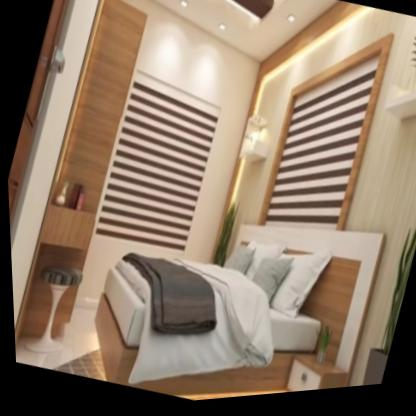Bed: (68, 168, 344, 412)
Nightstand: (267, 336, 353, 398)
